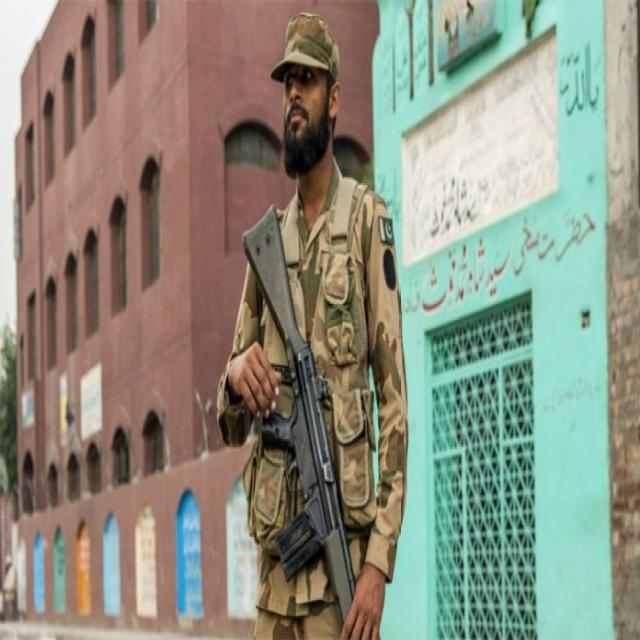Militant: (212, 0, 426, 640)
